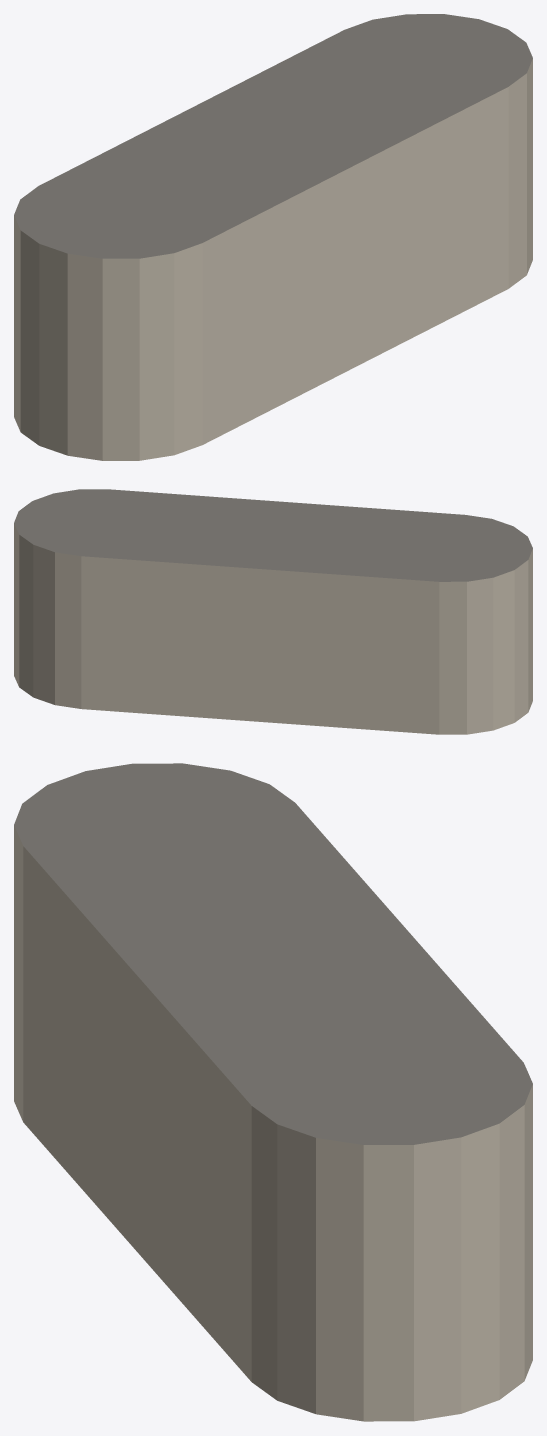
The picture shows the model from 3 angles, top to bottom: view 1: azimuth 30°, elevation 25°; view 2: azimuth 150°, elevation 25°; view 3: azimuth 270°, elevation 25°; orthographic projection. The views are drawn at different scales.
Visible parts, largest first — view 1: HP-w859488786; view 2: HP-w859488786; view 3: HP-w859488786.
Part boxes in pixels (x1,y1,x2,y2): HP-w859488786: (14, 14, 532, 460); HP-w859488786: (14, 489, 532, 734); HP-w859488786: (14, 763, 532, 1421).
Bounding box in the file's own units: 53.27 × 18 × 30.62.
